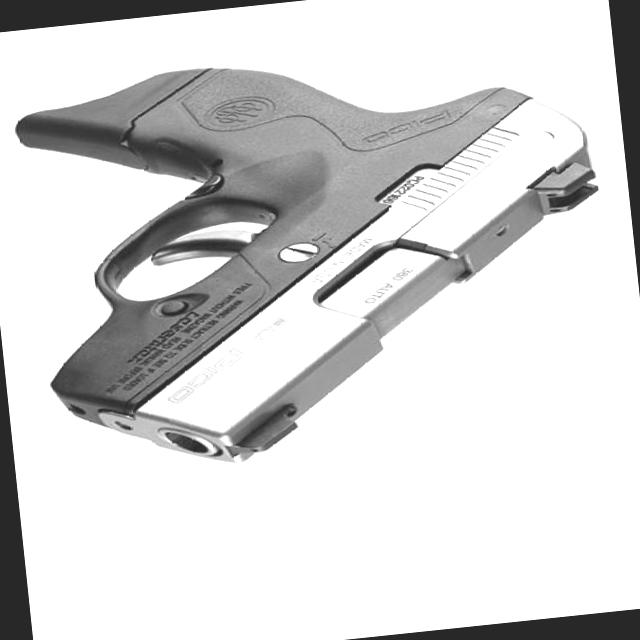handgun: (7, 0, 636, 481)
